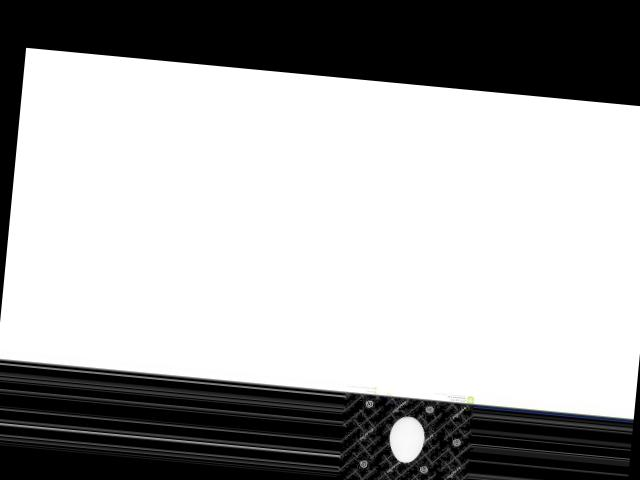egg: (386, 414, 425, 463)
